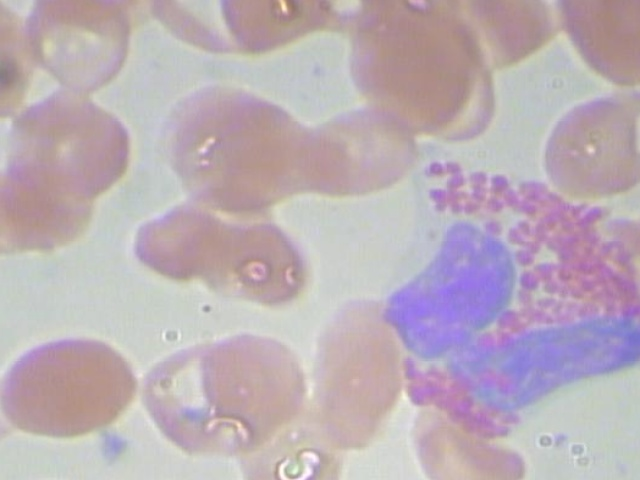Platelets: (88, 428, 140, 466)
RBC: (159, 77, 328, 213), (337, 1, 504, 124), (294, 293, 416, 455), (0, 90, 147, 208), (0, 331, 153, 438), (527, 68, 640, 198), (286, 100, 430, 199), (5, 0, 154, 91), (191, 325, 310, 428), (118, 191, 237, 285), (200, 213, 319, 307), (0, 151, 107, 246), (229, 395, 347, 480), (408, 404, 527, 480), (549, 0, 640, 89), (209, 0, 342, 58)
WBC: (378, 132, 640, 438)
